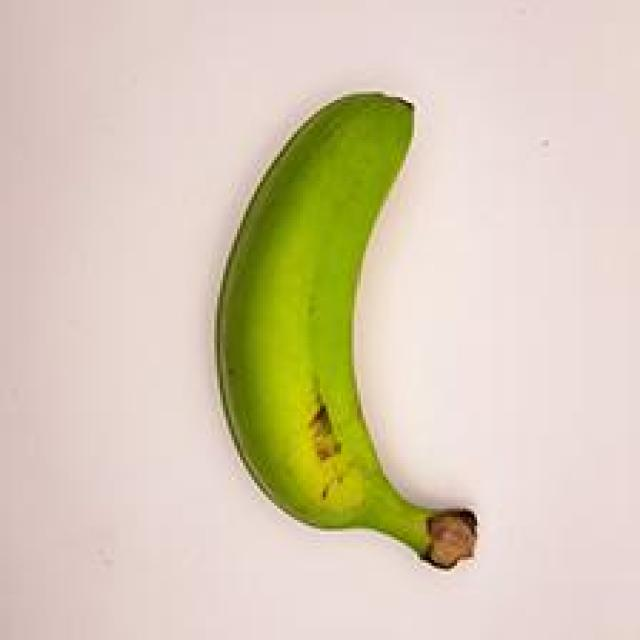Unripe: (168, 73, 510, 593)
